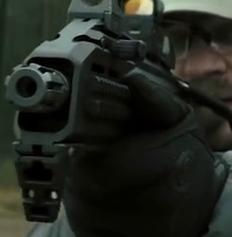gun: (1, 1, 232, 237)
